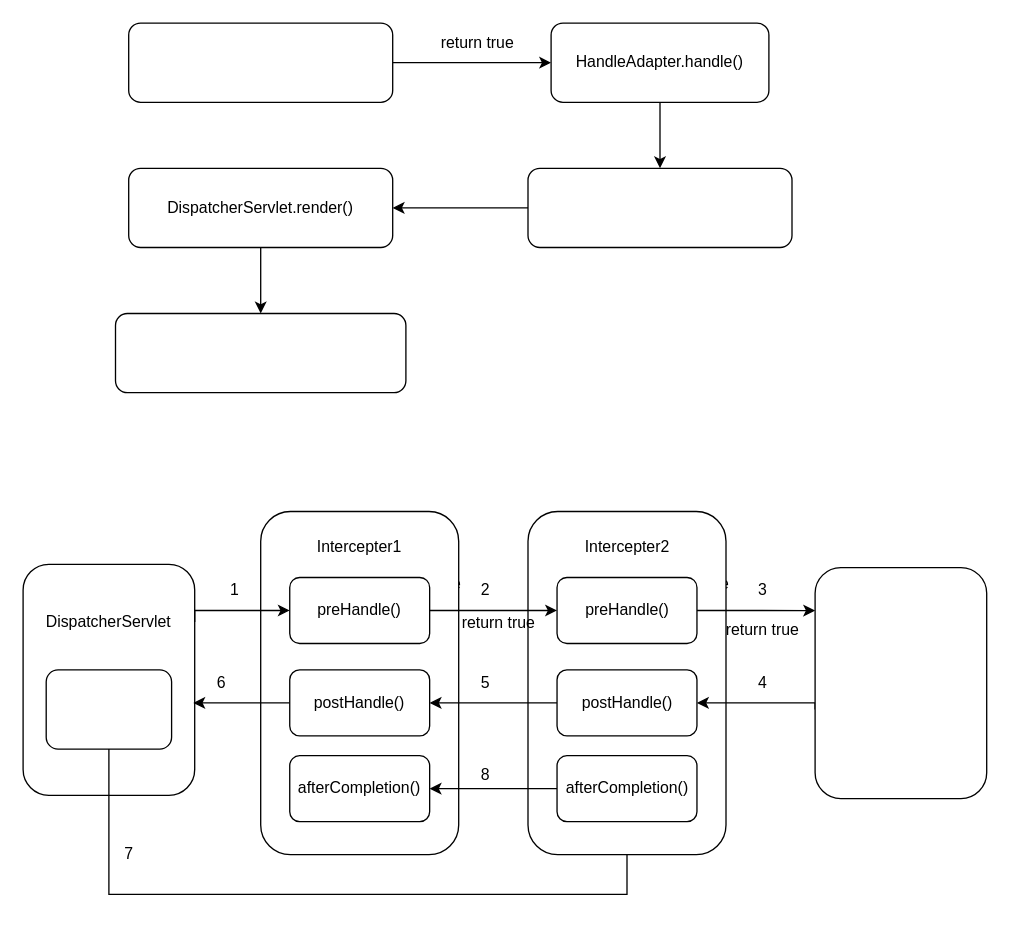
Some shapes in this 1010 by 928 pixel diagram are drawn without their labels. The shapes that lost their labels are listed below. From the top down, each one's centre as x and y in pixels, then its label:
point 260,62: MyHandlerInterceptor.preHandle()
point 659,207: MyHandlerInterceptor.postHandle()
point 260,352: MyHandlerInterceptor.afterCompletion()
point 900,682: HandlerAdapter handle()
point 108,709: render()
